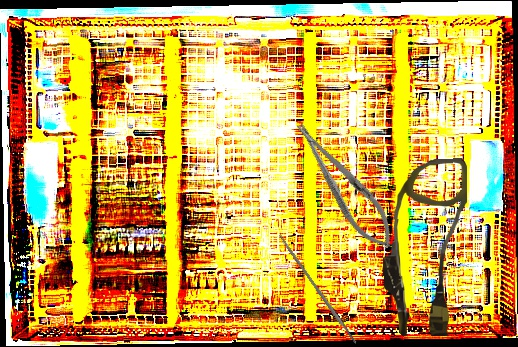Cannula: (381, 158, 470, 337)
Needle Holder: (285, 113, 404, 258)
Scalpel Handle: (277, 233, 358, 346)
